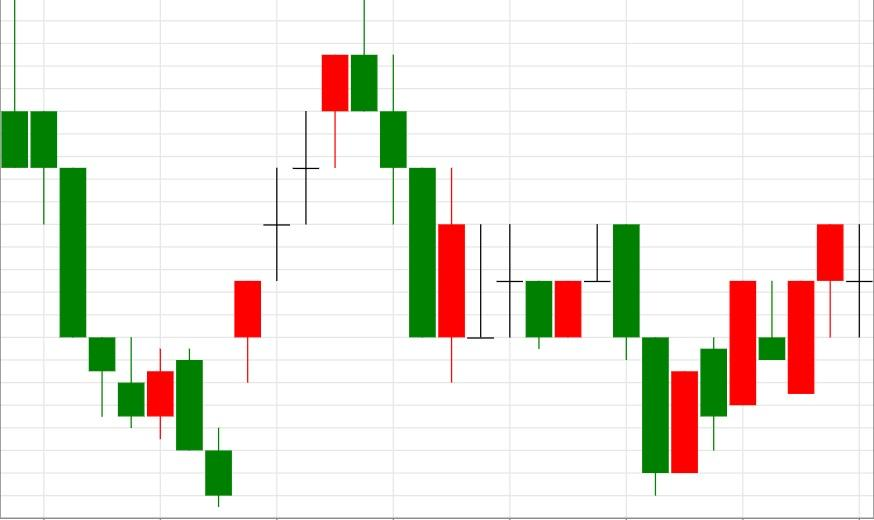three_black_crows_fall: (204, 0, 436, 507)
